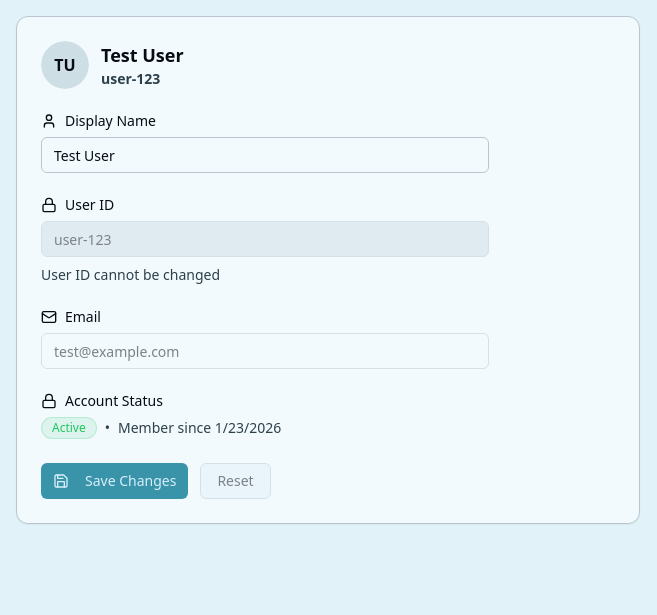
Test case: Profile Page › Profile Updates › should show error message on save failure
Replace the text in the field labelled "Display Name" with "Updated Name" at (265,155), box left=41, top=137, right=489, bottom=173
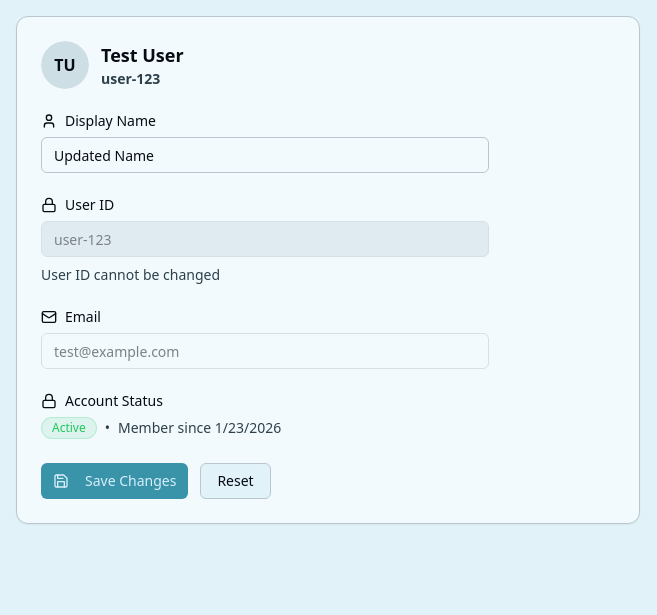
Click the button "Save Changes".
click(115, 481)  # box left=41, top=463, right=188, bottom=499
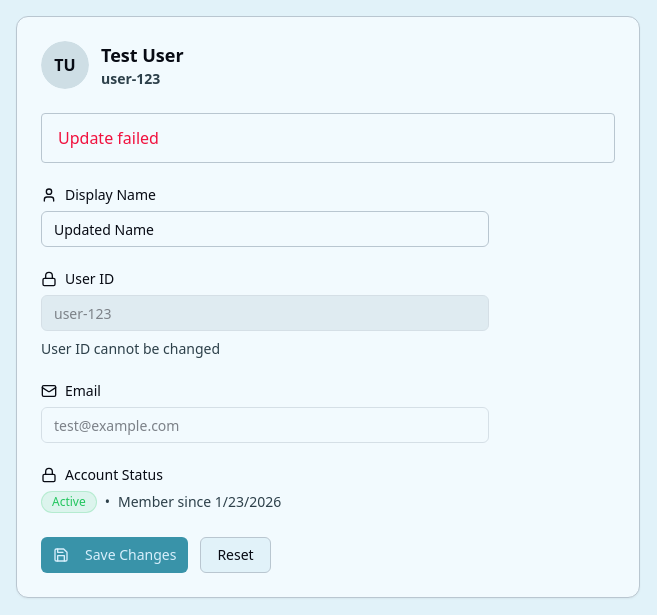
expect the text "Update failed" is shown: met, box left=41, top=113, right=615, bottom=163
